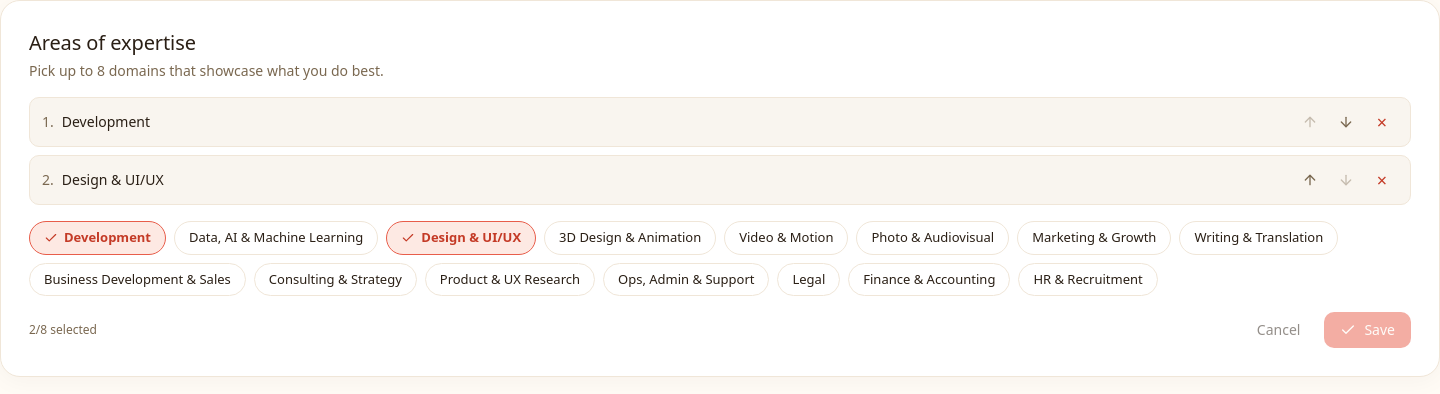
Scenario: ExpertiseEditor › moves an item down when the move-down arrow is clicked
Click the button named "Move Development down" at (1346, 122), box [1330,106,1362,138]
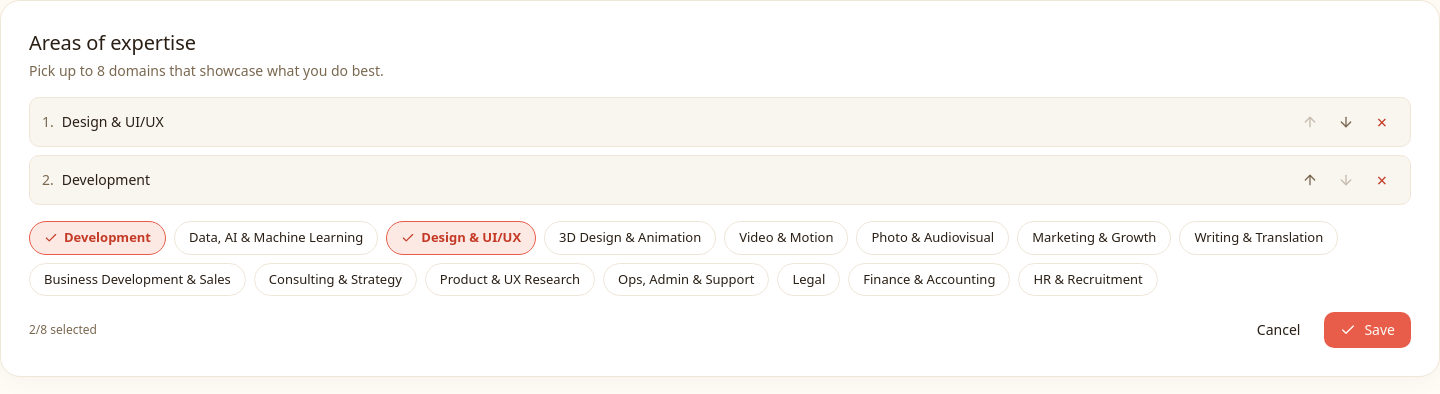
Now the list named "Selected expertise domains, ordered" shows "1.Design & UI/UX", box [29,97,1411,205]
Now the list named "Selected expertise domains, ordered" shows "2.Development", box [29,97,1411,205]
